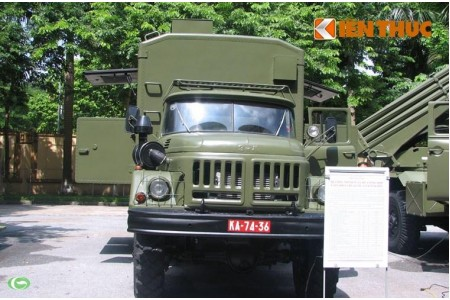plate: (224, 216, 272, 234)
